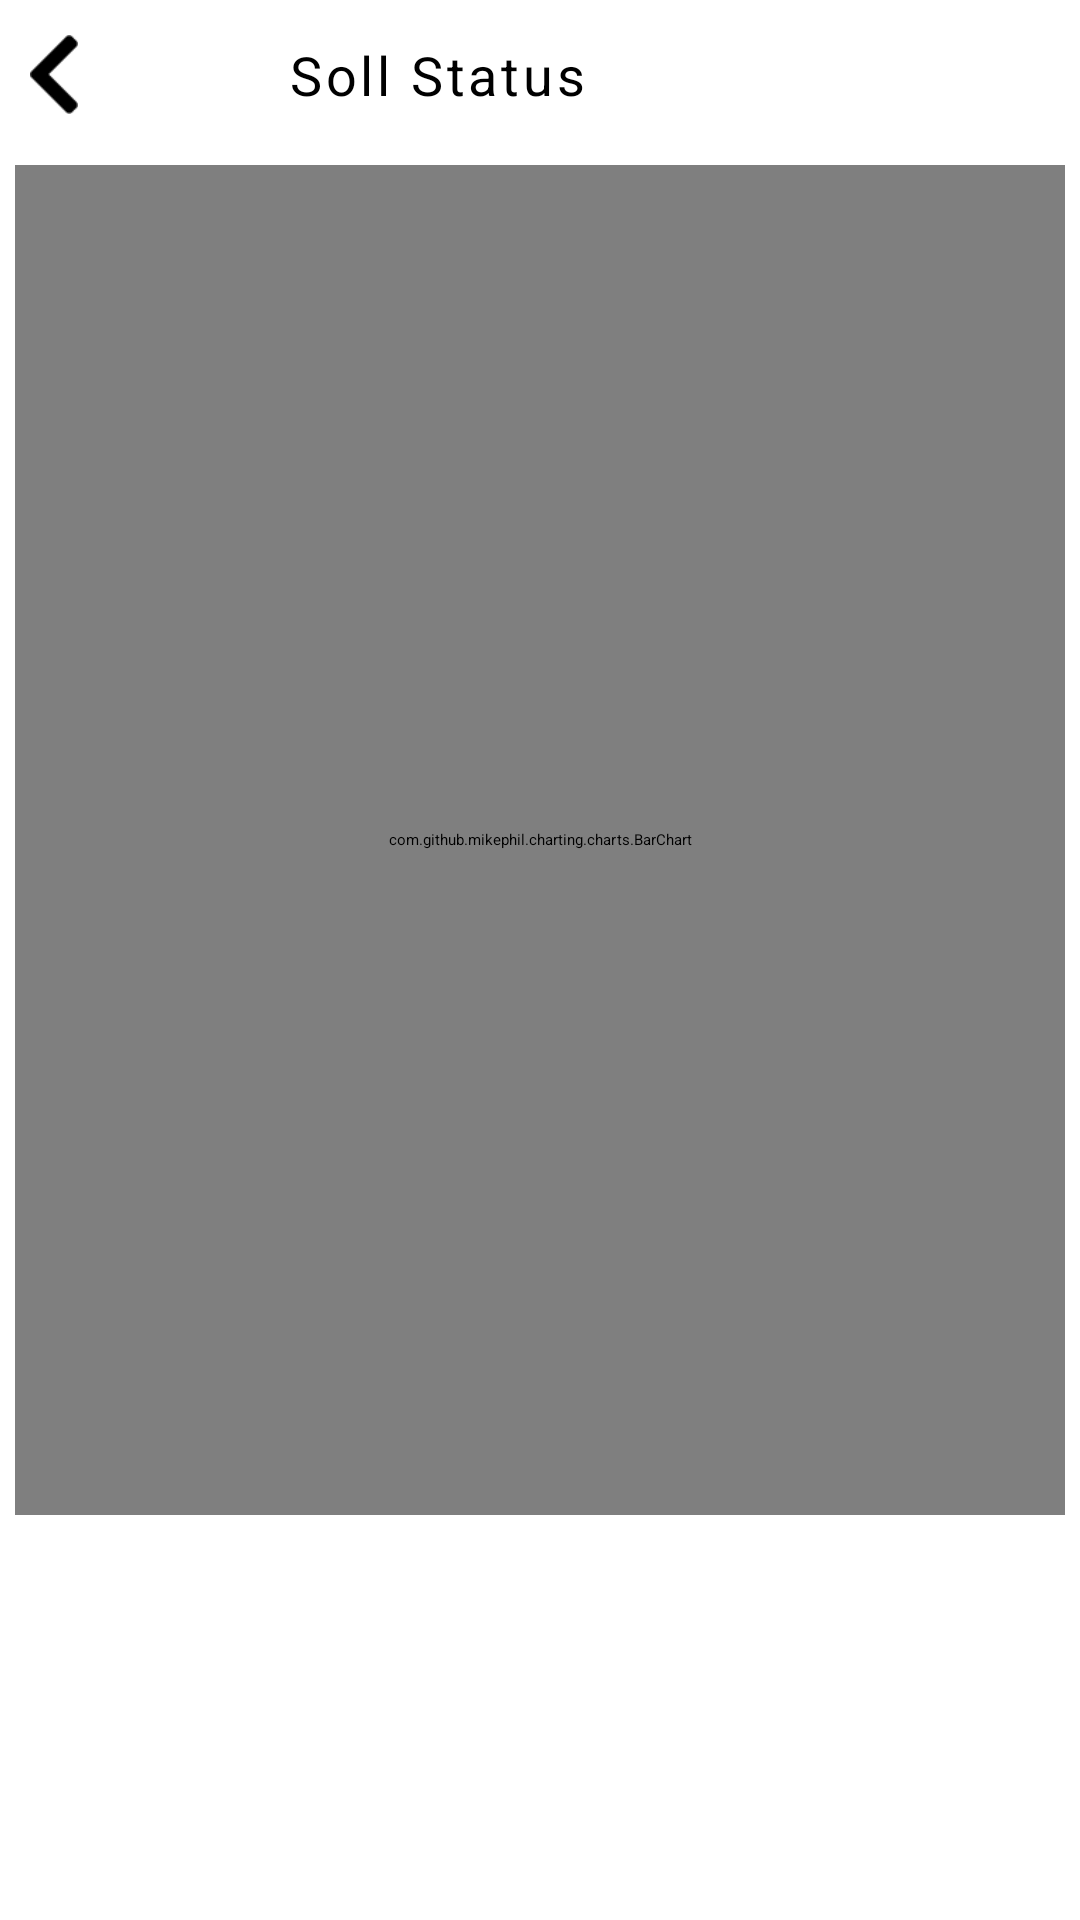

Icons on this 1080x1920 Android screen, each with the point to tap as point (x, y):
backicon: point (54, 74)
